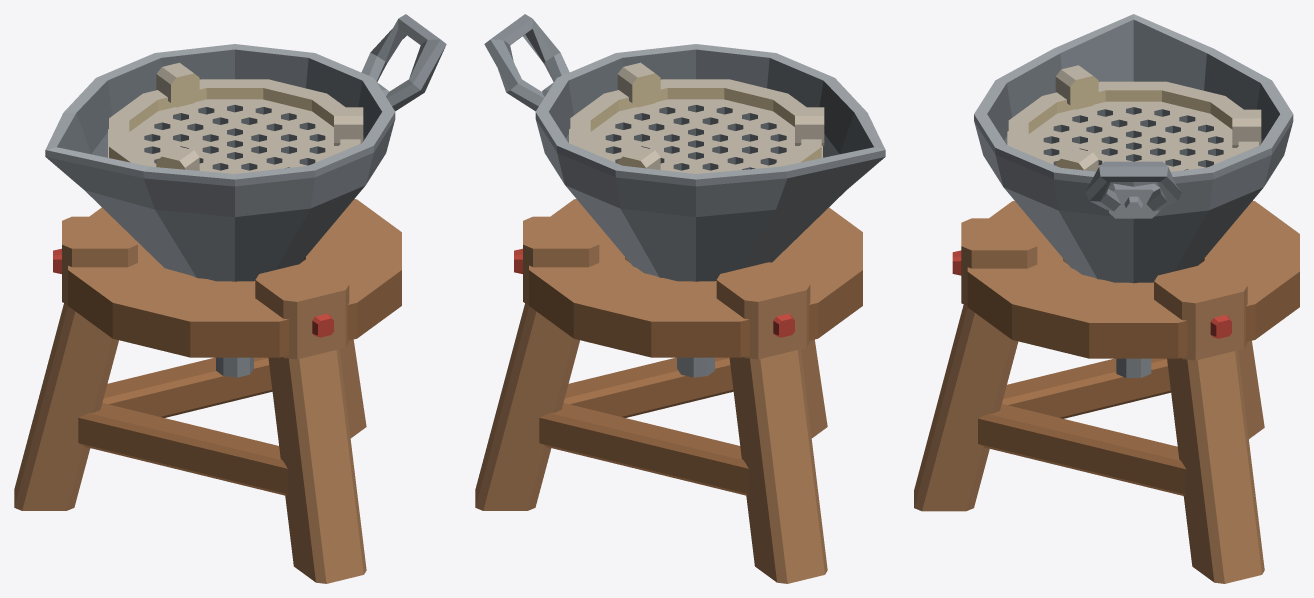
Rendered from FMS_Workshop_TOL_18.fbx.
3 views of the same model, side by side, from view 1: azimuth 30°, elevation 25°; view 2: azimuth 150°, elevation 25°; view 3: azimuth 270°, elevation 25° (orthographic).
Visible parts, largest first — view 1: FMS_Workshop_TOL_18_Body; view 2: FMS_Workshop_TOL_18_Body; view 3: FMS_Workshop_TOL_18_Body.
Boxes of the visible parts, <box> form: FMS_Workshop_TOL_18_Body: <box>14,14,446,583</box>; FMS_Workshop_TOL_18_Body: <box>475,14,885,583</box>; FMS_Workshop_TOL_18_Body: <box>914,14,1299,583</box>.
Bounding box in the file's own units: 0.3496 × 0.37 × 0.3051.
Materials: 1 (1 with a texture image).
